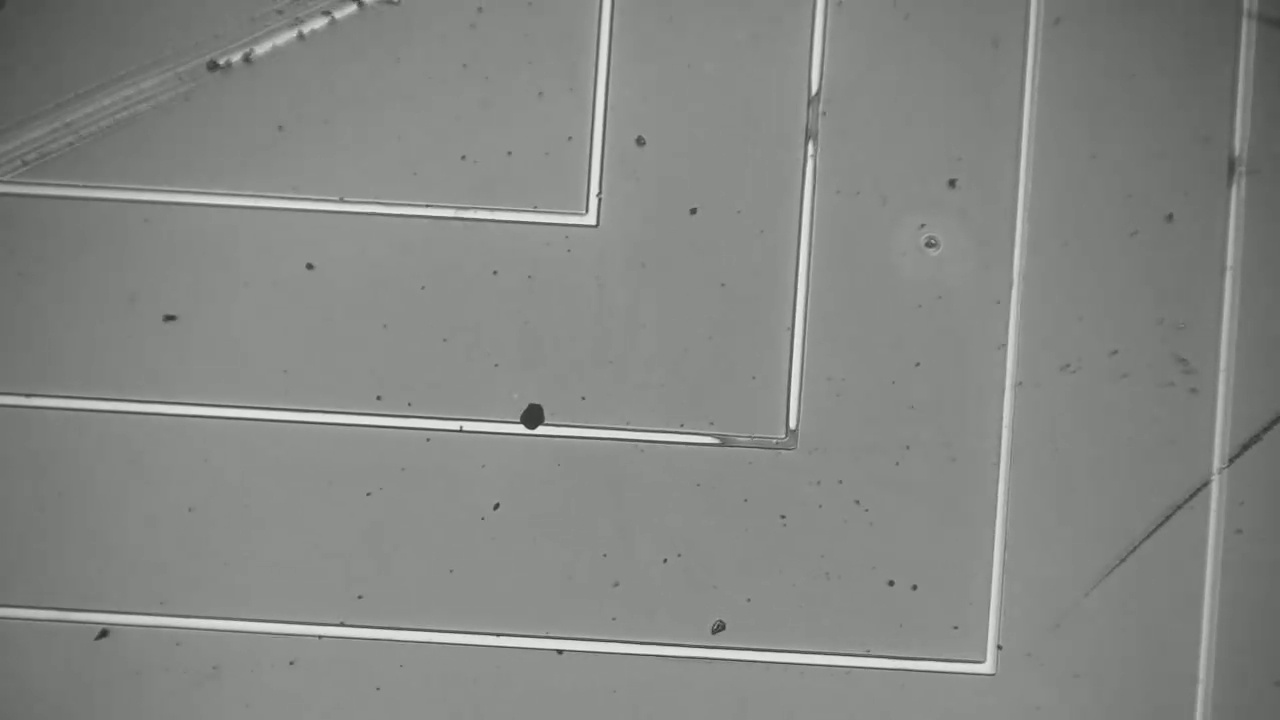edge_bite: (581, 181, 608, 205)
gray_line: (705, 427, 816, 455), (797, 79, 829, 160), (1217, 144, 1252, 204), (775, 409, 806, 464)
scratch: (0, 8, 354, 177), (1049, 421, 1279, 625)
stains_enbedded: (509, 394, 555, 445)
